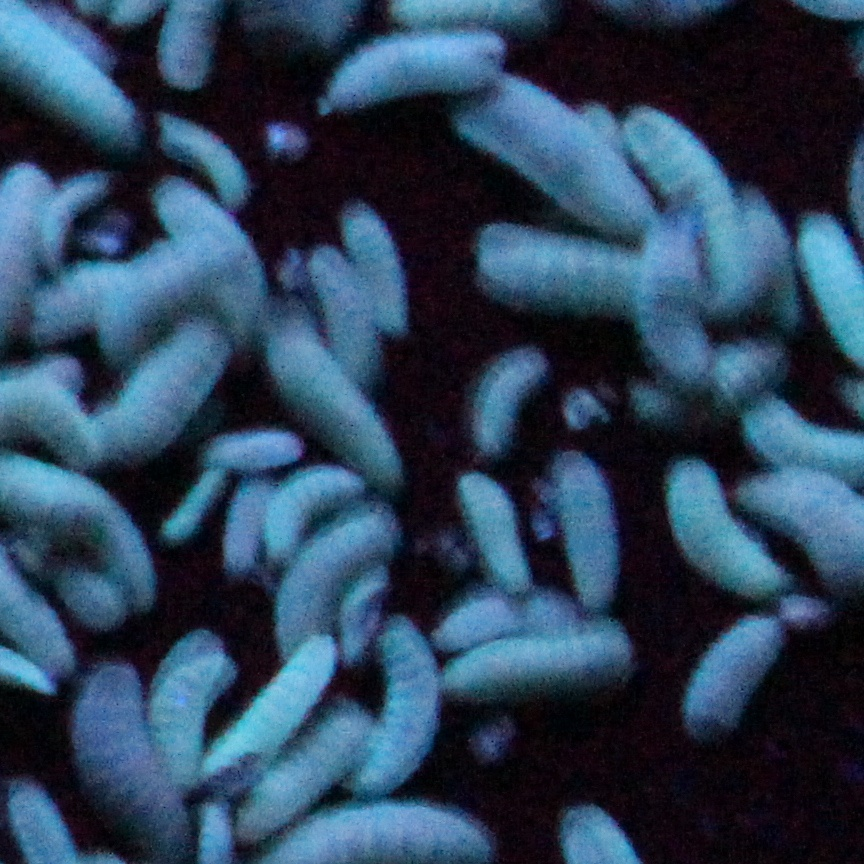larve: (445, 64, 654, 233), (617, 96, 756, 314), (56, 655, 192, 857), (258, 308, 409, 483), (200, 623, 343, 807), (655, 450, 791, 601), (316, 18, 510, 116), (676, 594, 788, 754), (92, 324, 229, 453), (540, 446, 629, 614), (362, 618, 442, 794), (328, 189, 420, 337), (437, 626, 642, 692), (458, 337, 550, 464), (452, 466, 538, 599), (152, 112, 265, 213), (202, 424, 300, 476)
